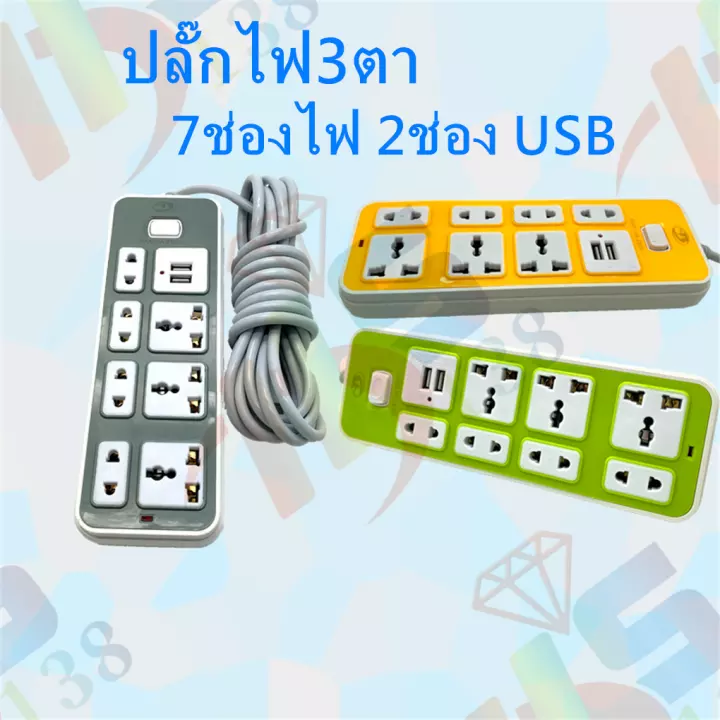Three_eye_plug: (340, 316, 720, 532), (68, 189, 231, 556), (331, 189, 720, 326)
